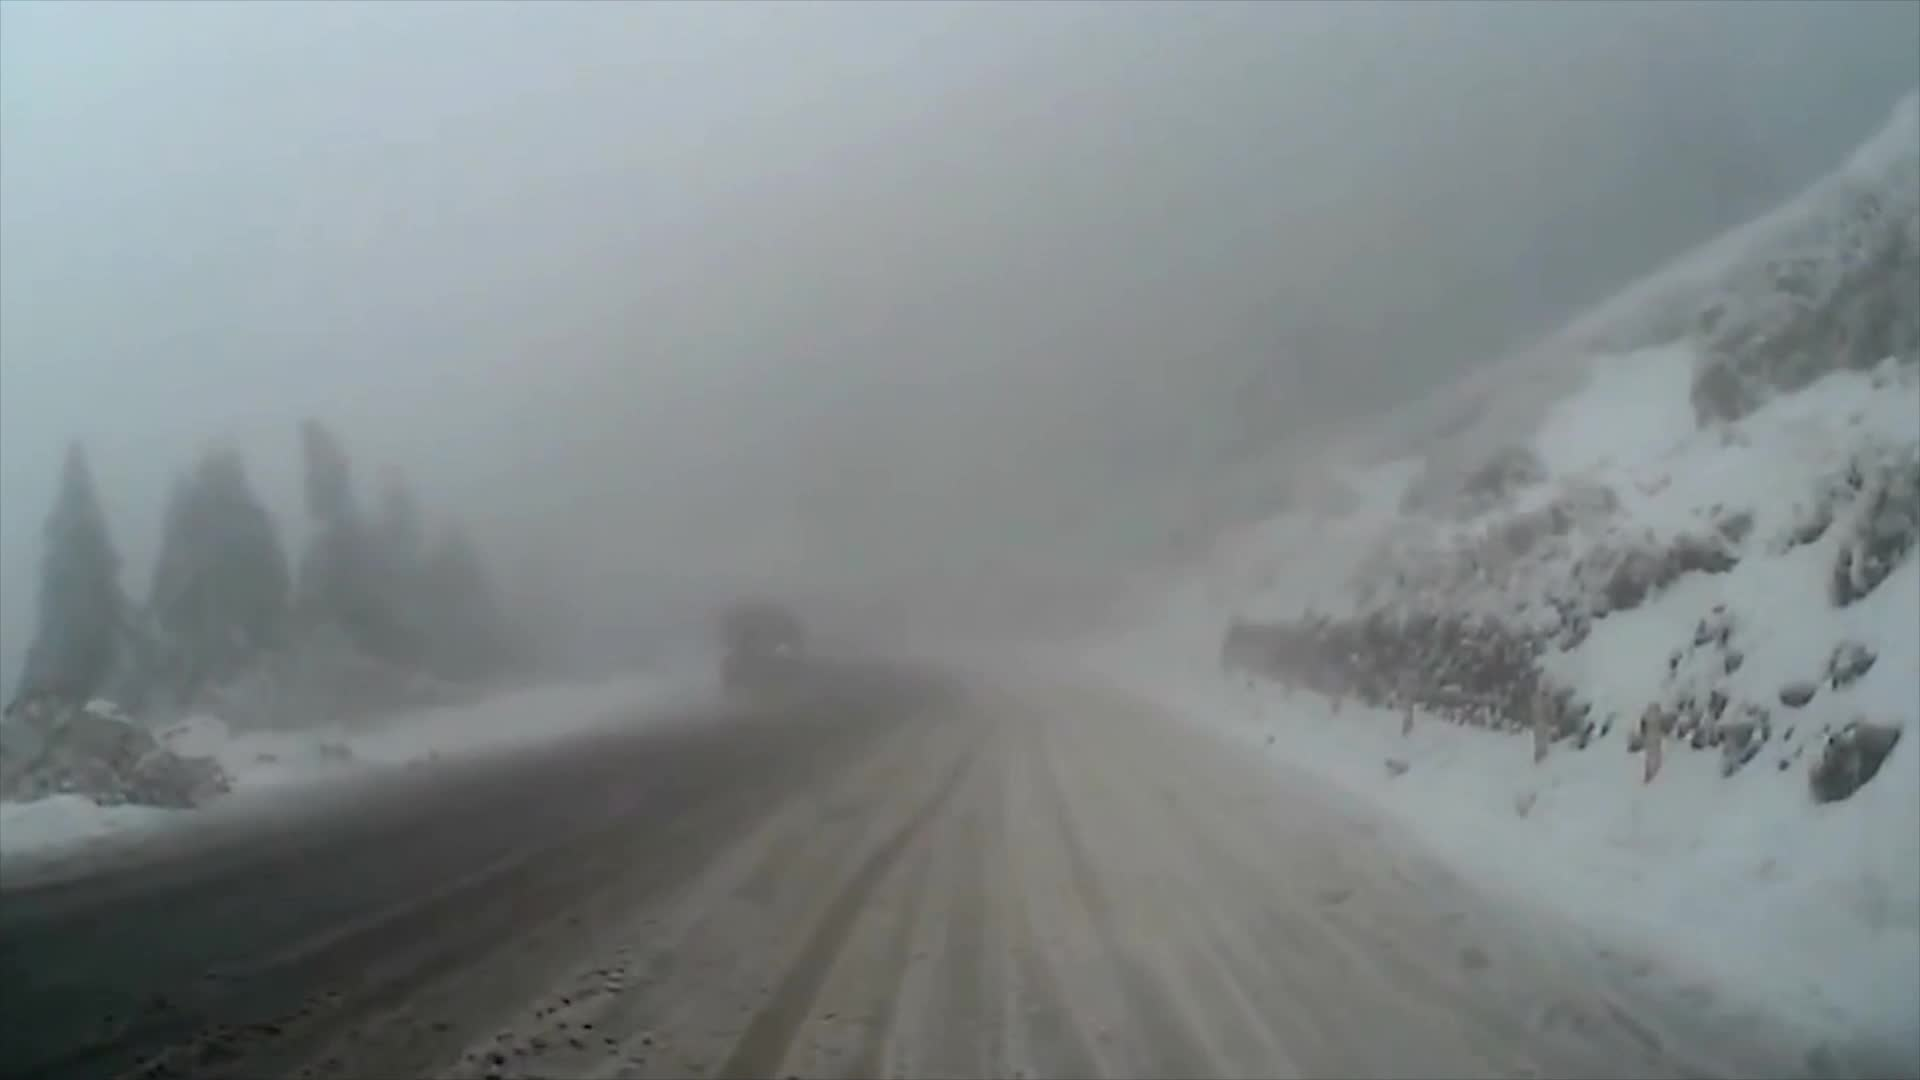vehicle: (712, 603, 808, 695)
